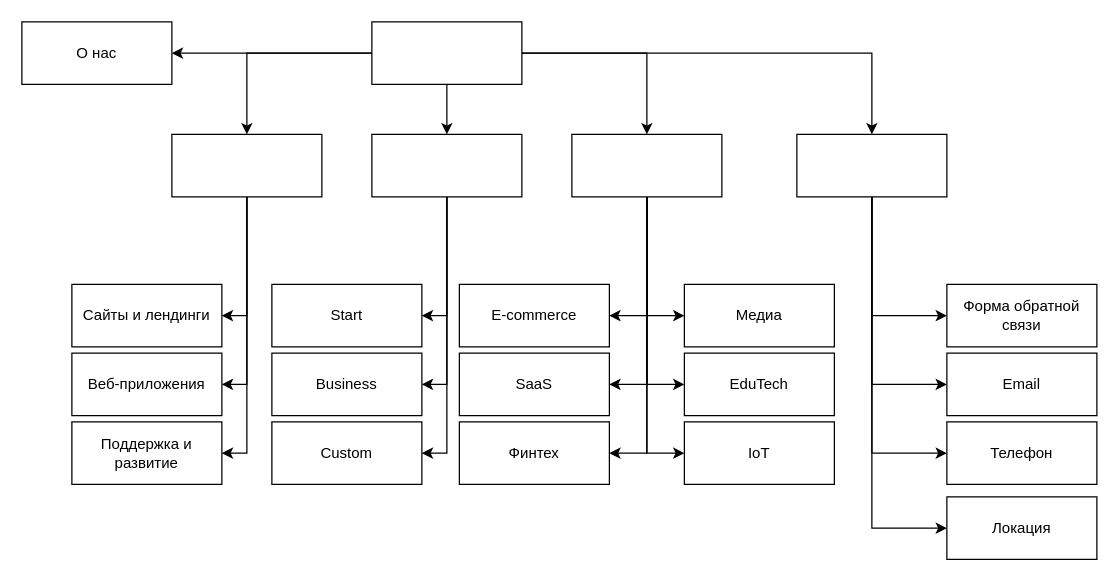
The diagram is 1119 pixels wide and 581 high, and some of its shapes have lost their labels. Each missing label, with the box of its shape:
Главная страница: (371, 21, 522, 84)
Контакты: (796, 133, 947, 197)
Портфолио: (571, 133, 722, 197)
Услуги: (171, 133, 322, 197)
Цены: (371, 133, 522, 197)
